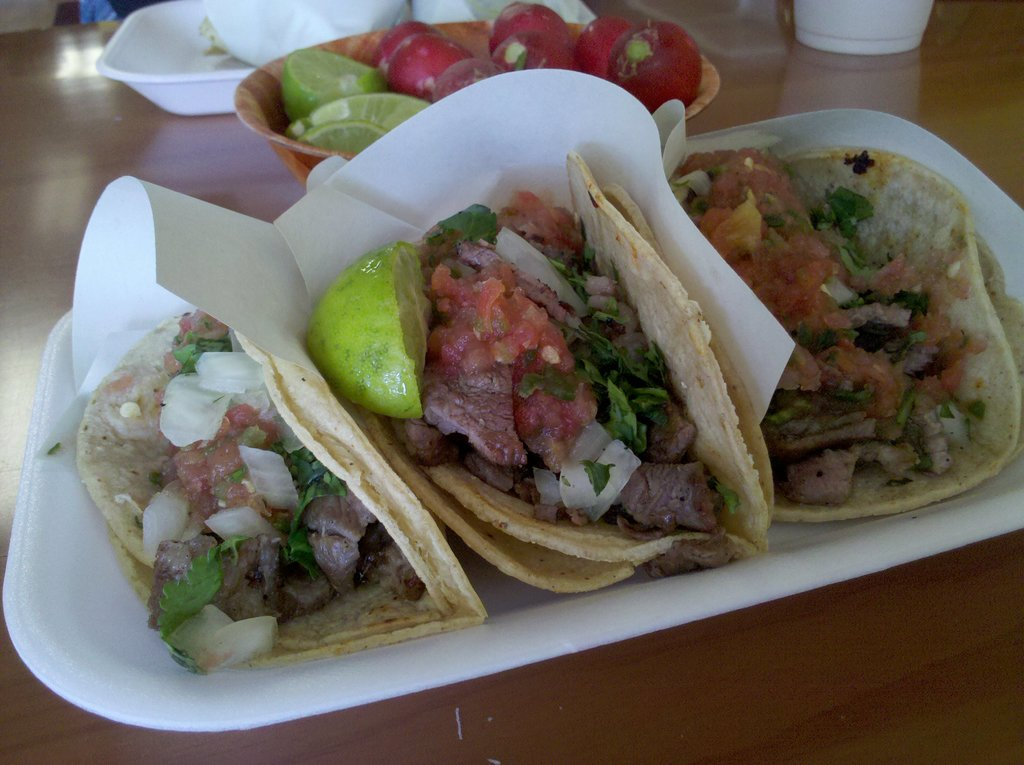taco: (333, 149, 788, 602), (72, 276, 476, 677), (605, 143, 1023, 522), (668, 145, 1023, 516)
